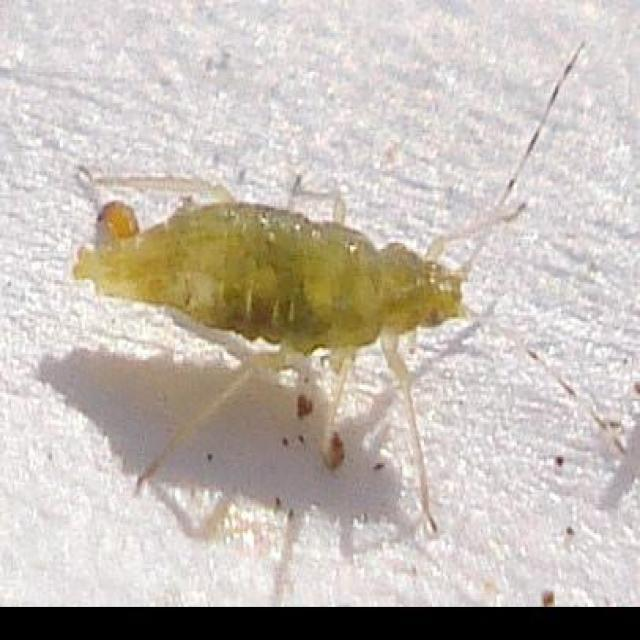aphid: (41, 110, 561, 526)
